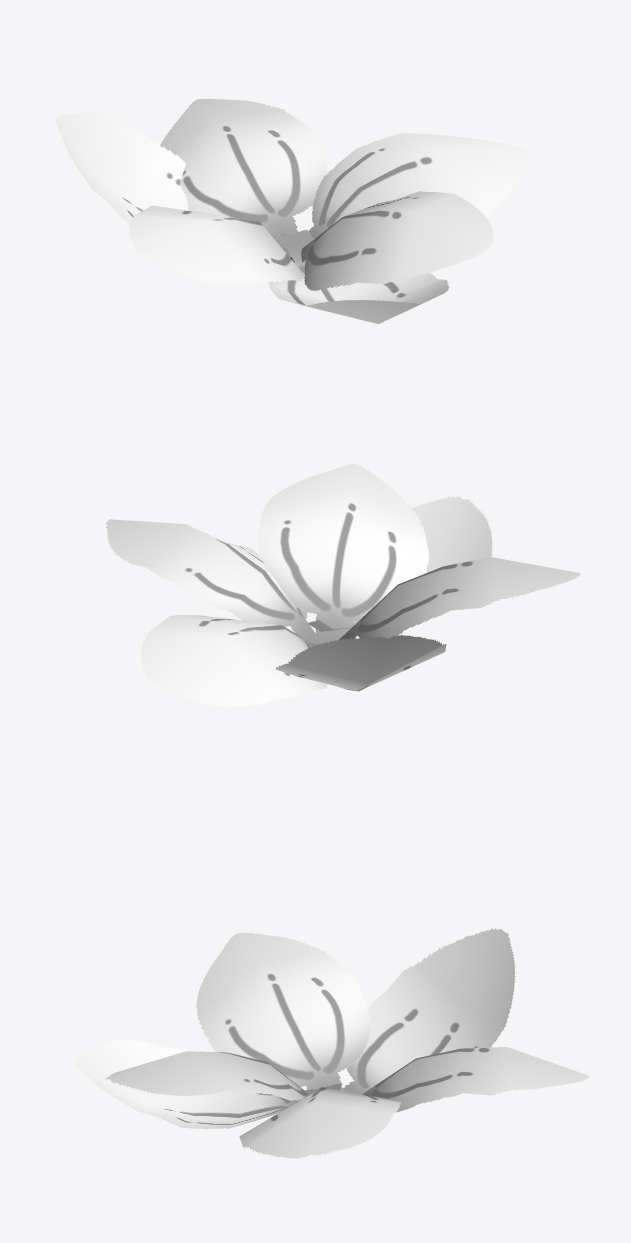
The model's file is Ratamo 1.fbx.
3 views of the same model, one above another, from view 1: azimuth 30°, elevation 25°; view 2: azimuth 150°, elevation 25°; view 3: azimuth 270°, elevation 25° (orthographic). The views are drawn at different scales.
Parts seen in each view (by area): view 1: Plane.017; view 2: Plane.017; view 3: Plane.017.
Boxes of the visible parts, x1,y1,x2,y2 form: Plane.017: [55, 98, 526, 323]; Plane.017: [105, 463, 579, 707]; Plane.017: [74, 928, 588, 1158].
Bounding box in the file's own units: 141 × 60.54 × 140.
1 material, 1 textured.
